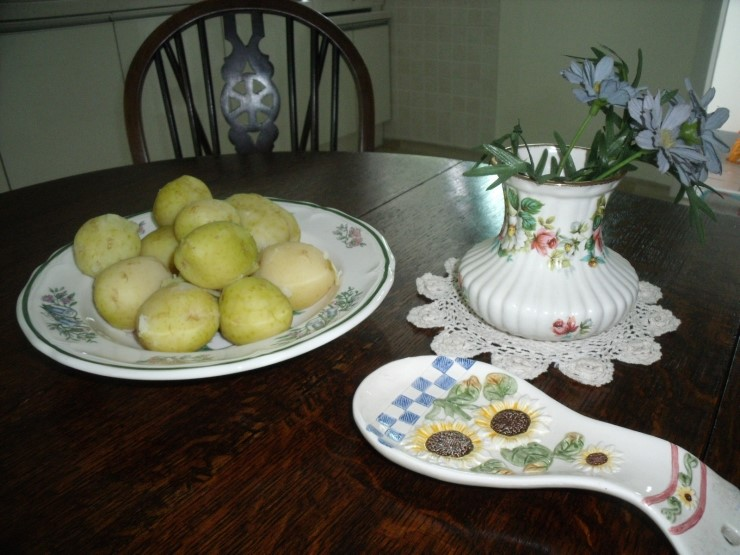boiled potatoes: (75, 196, 319, 335)
